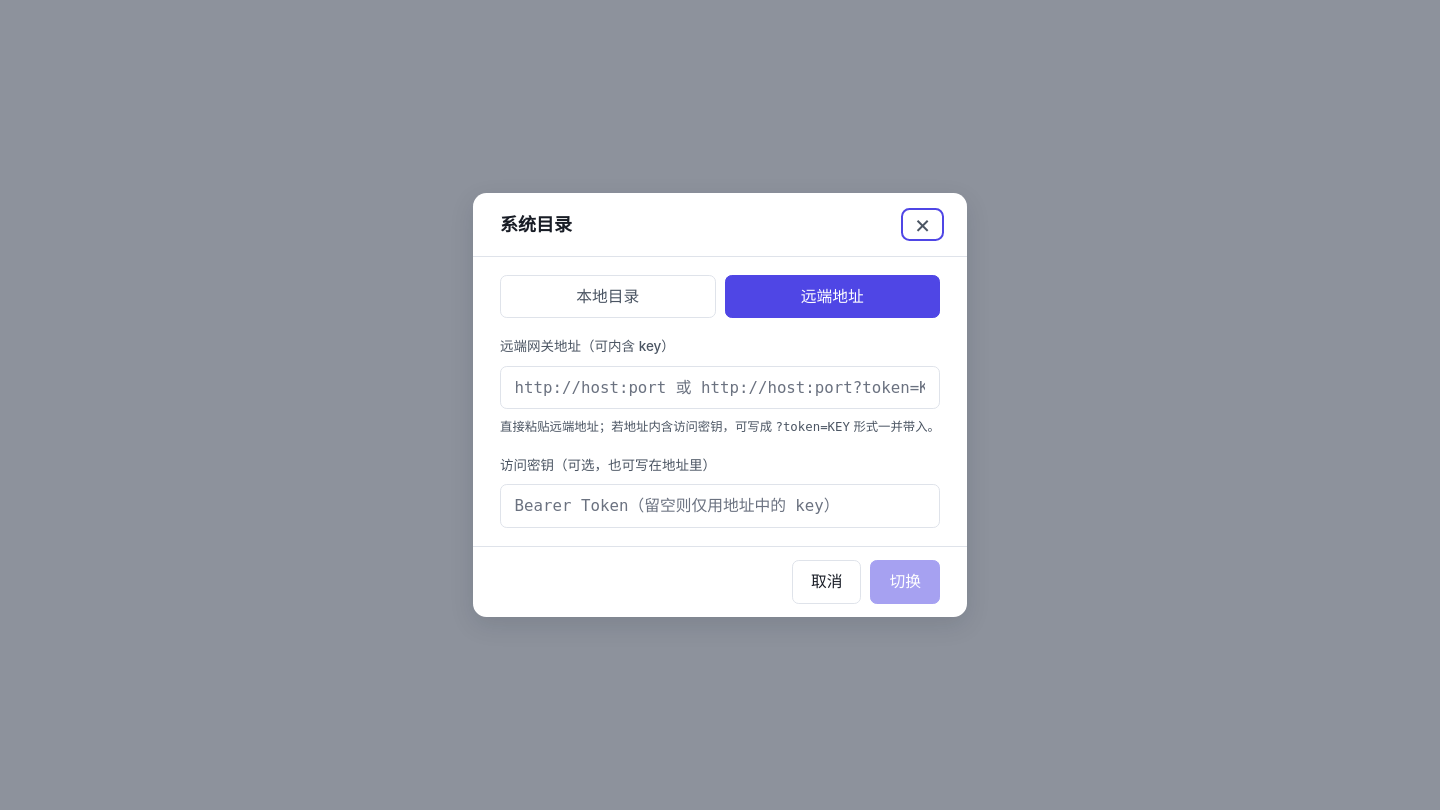
Scenario: HomedirSwitcher — 提交前校验 › host 判据：localhost / 含点 / IP 才可提交，裸主机名不行
The width and height of the screenshot is (1440, 810).
Type "http://localhost:8080" into the field with id "sysdir-url" at (720, 387), box [500,366,940,409]
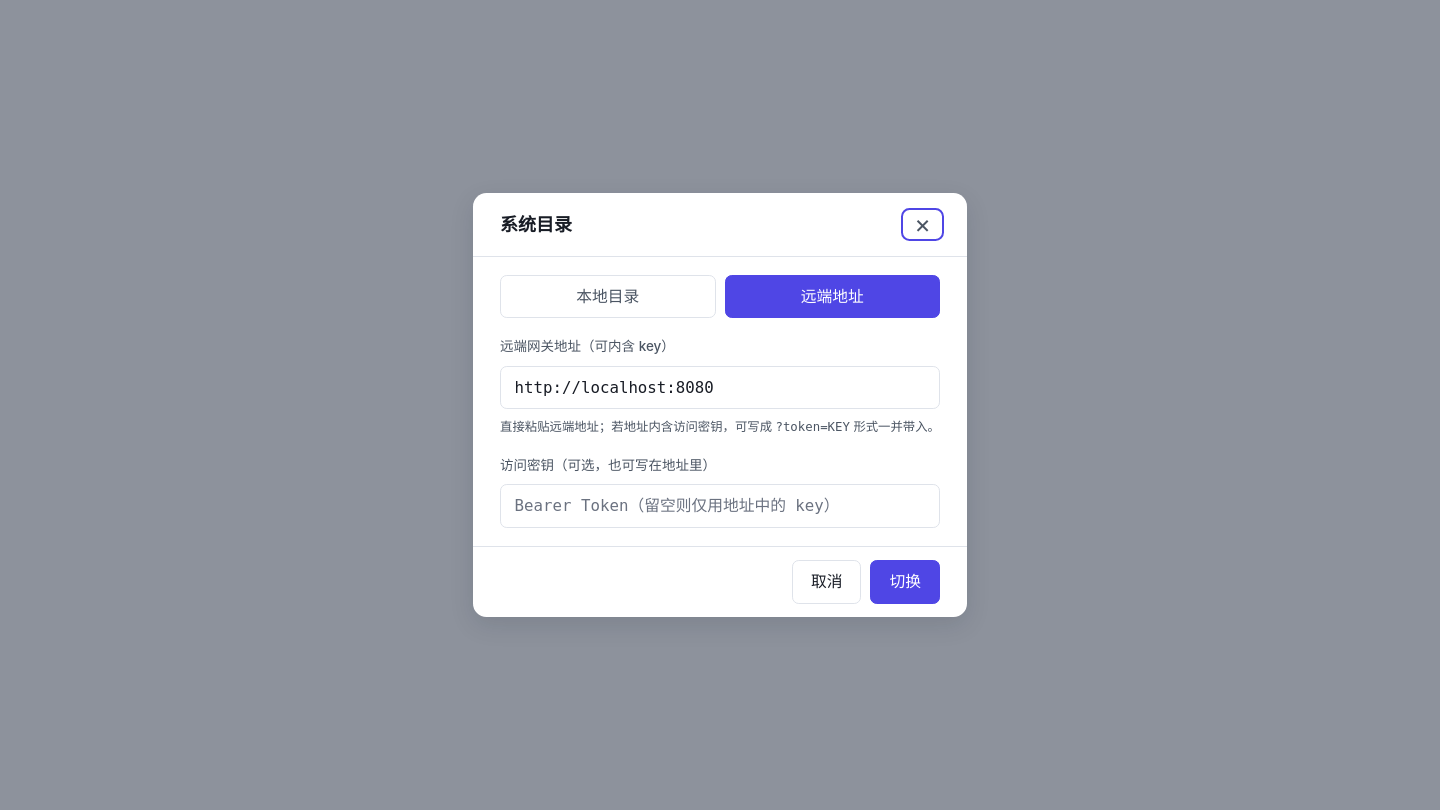
Now the button "切换" is enabled, box [870,560,940,604]
Replace the text in the field with id "sysdir-url" with "http://gw.example:8080" at (720, 387), box [500,366,940,409]
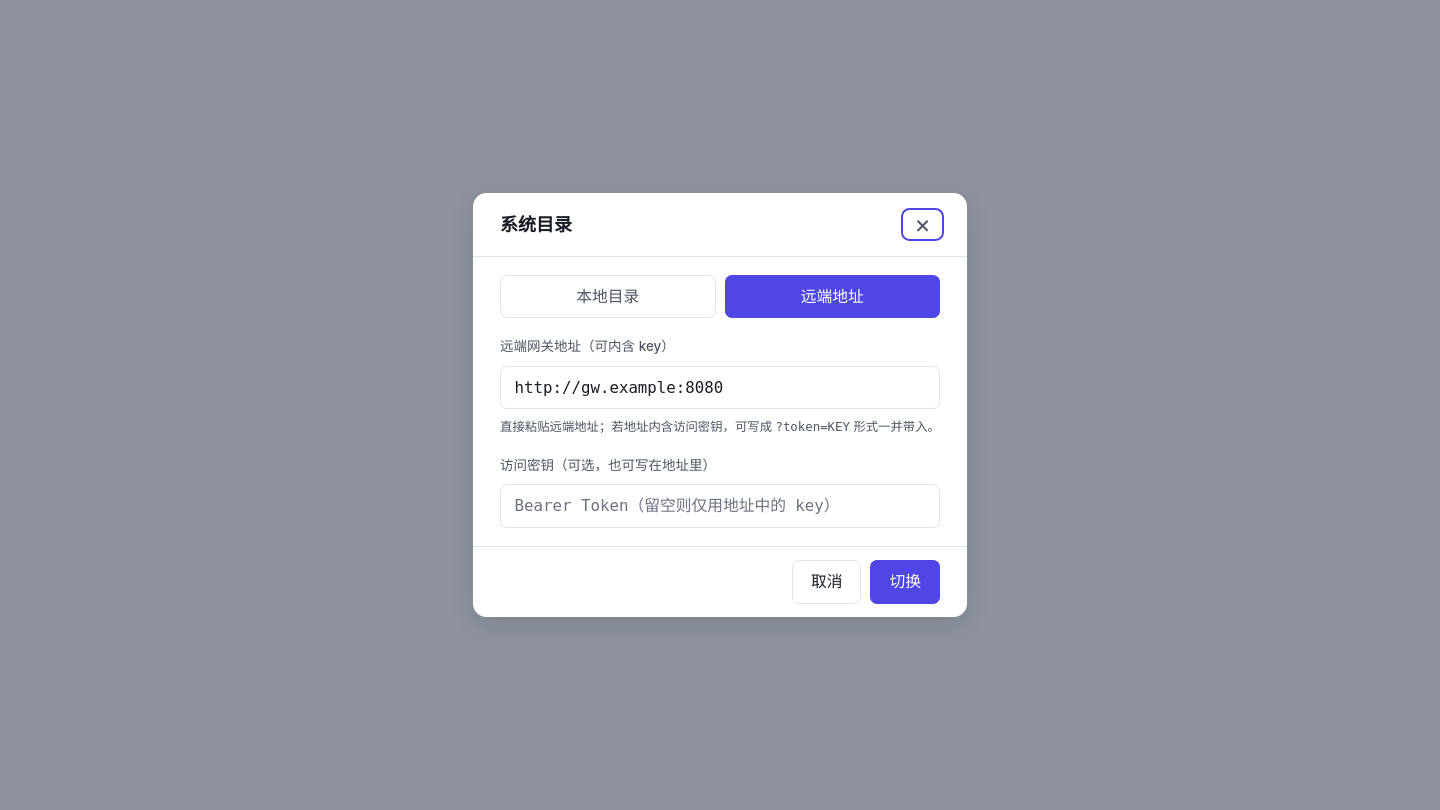
Now the button "切换" is enabled, box [870,560,940,604]
Replace the text in the field with id "sysdir-url" with "http://127.0.0.1:8080" at (720, 387), box [500,366,940,409]
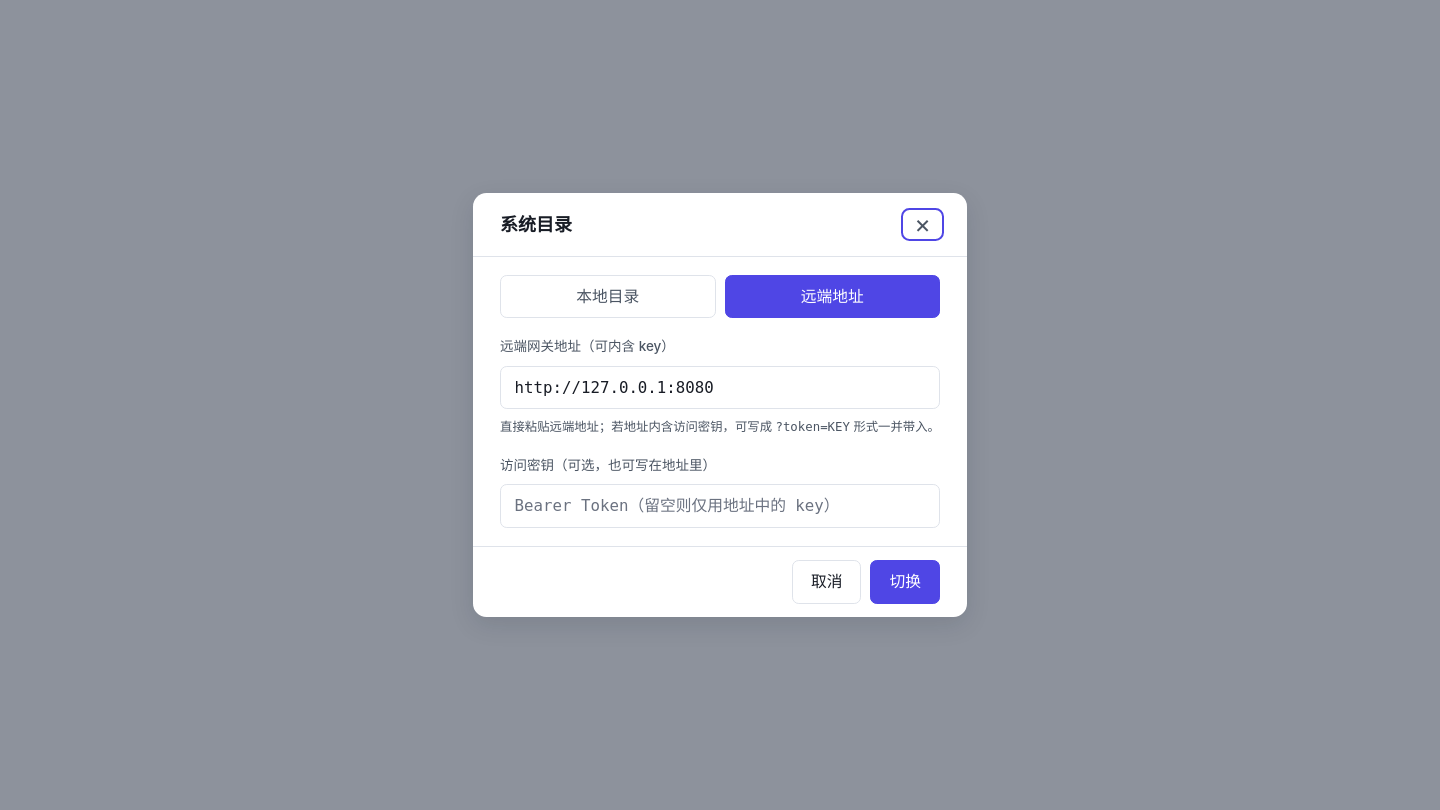
Now the button "切换" is enabled, box [870,560,940,604]
Replace the text in the field with id "sysdir-url" with "http://gw:8080" at (720, 387), box [500,366,940,409]
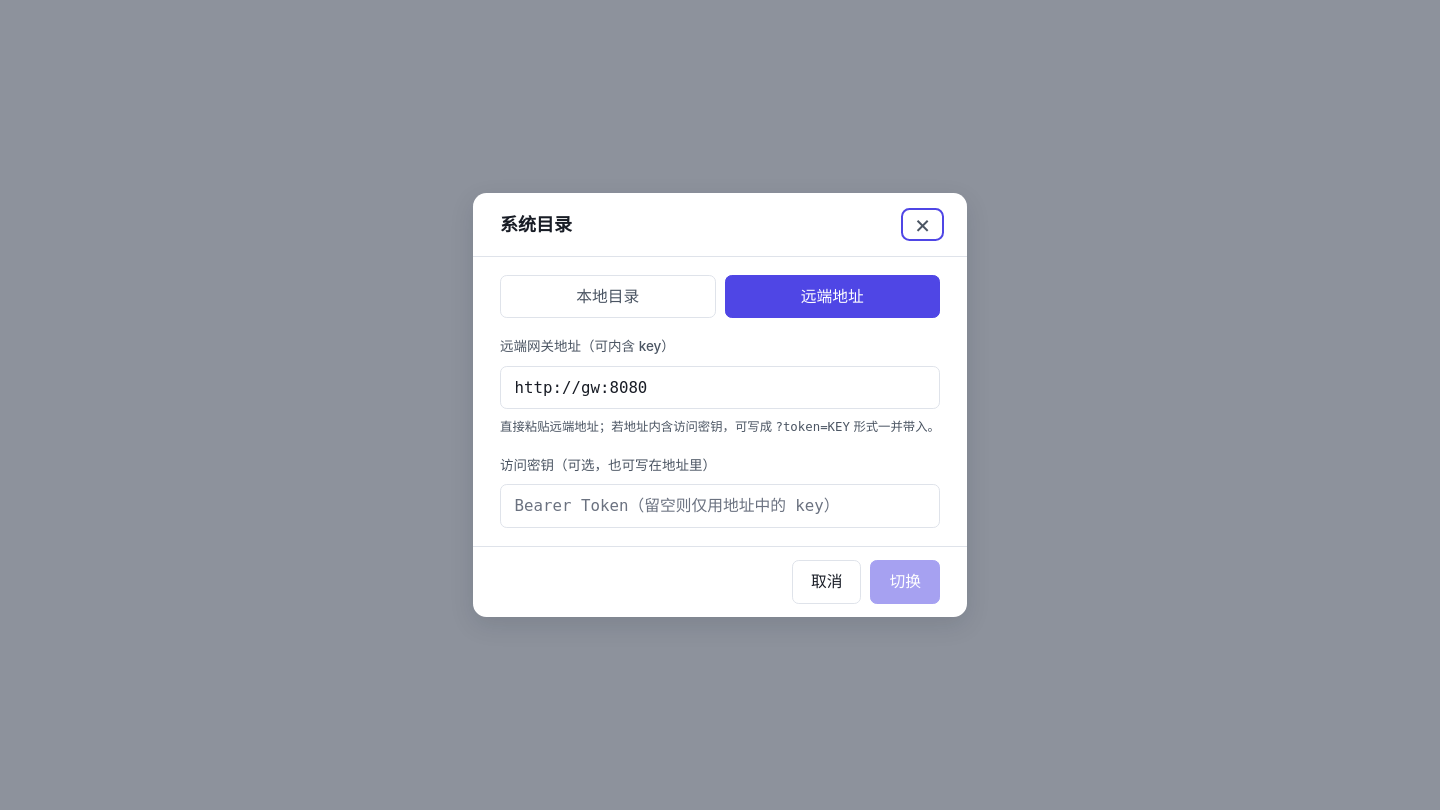
Now the button "切换" is disabled, box [870,560,940,604]
